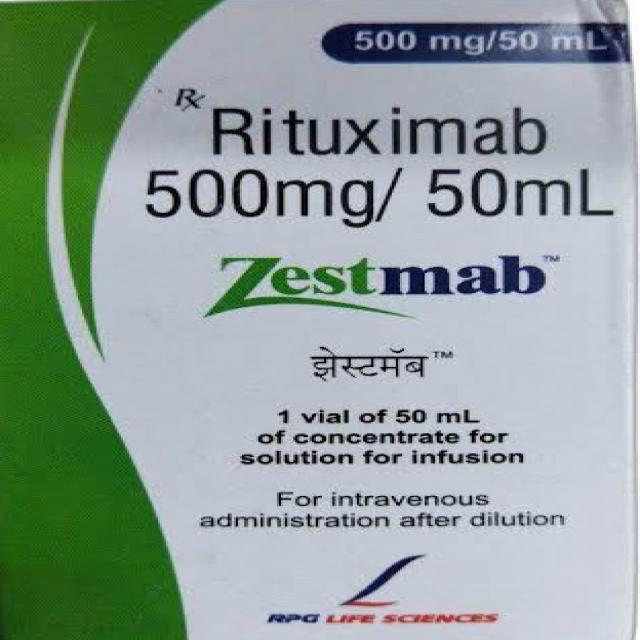drug-name: (201, 254, 553, 317)
